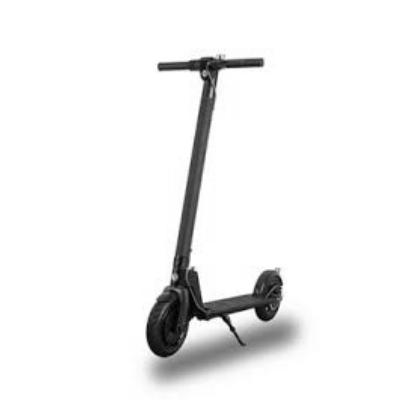bike: (146, 55, 285, 359)
